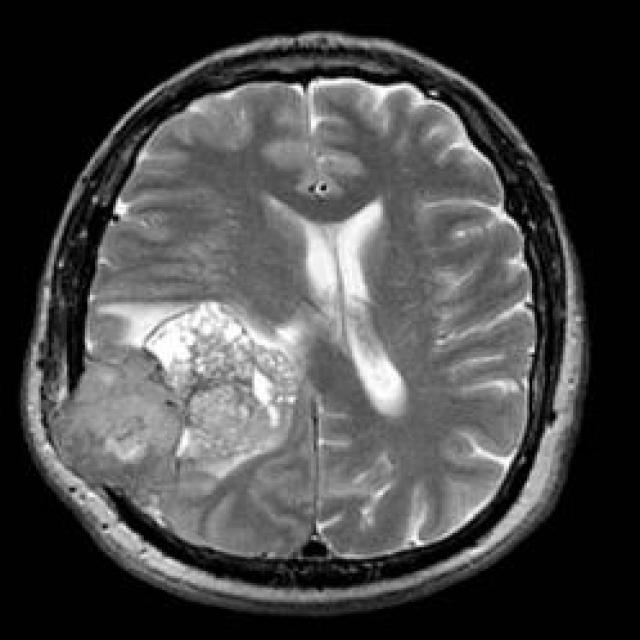Tumor-Cell: (46, 316, 307, 508)
